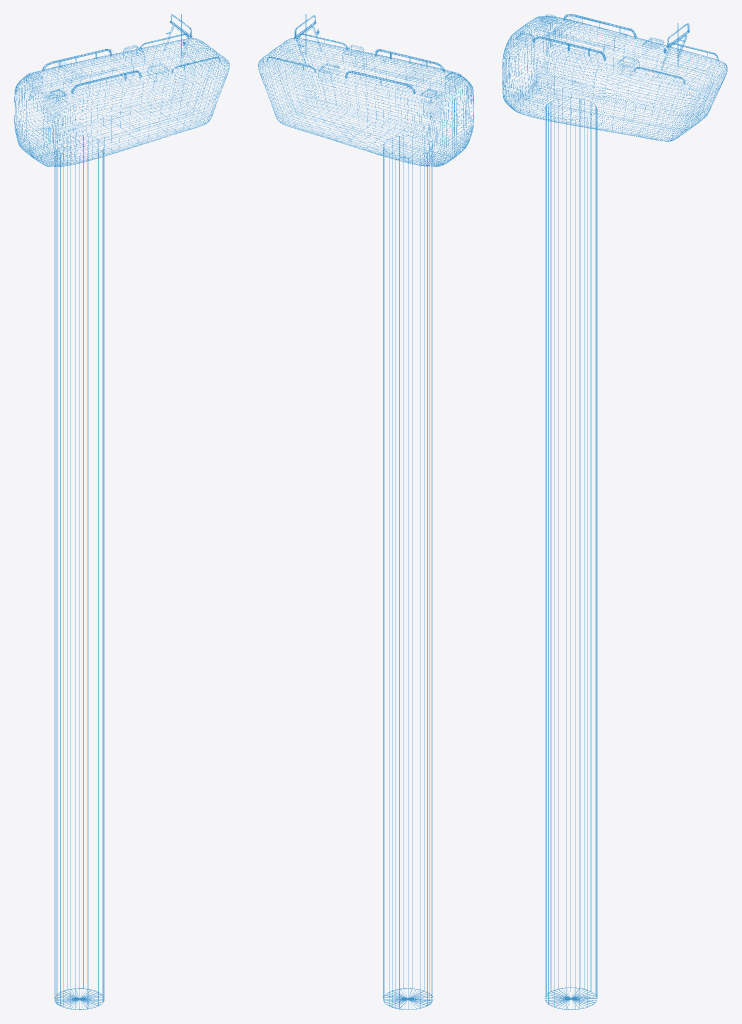
The model's file is zhuji2.glb.
The picture shows the model from 3 angles, left to right: view 1: azimuth 30°, elevation 25°; view 2: azimuth 150°, elevation 25°; view 3: azimuth 330°, elevation 25°; orthographic projection. The views are drawn at different scales.
Parts seen in each view (by area): view 1: zhuzi, kezileft, keziright; view 2: zhuzi, keziright, kezileft; view 3: zhuzi, kezileft, keziright.
Part boxes in pixels (x1,y1,x2,y2): zhuzi: (54,136,104,1009); kezileft: (31,14,229,166); keziright: (14,14,214,157); zhuzi: (383,136,432,1009); keziright: (258,27,454,166); kezileft: (272,14,473,158); zhuzi: (544,98,597,1009); kezileft: (502,23,712,141); keziright: (522,14,727,129).
Size of the model in its own units: 45.36 by 227 by 17.36.
